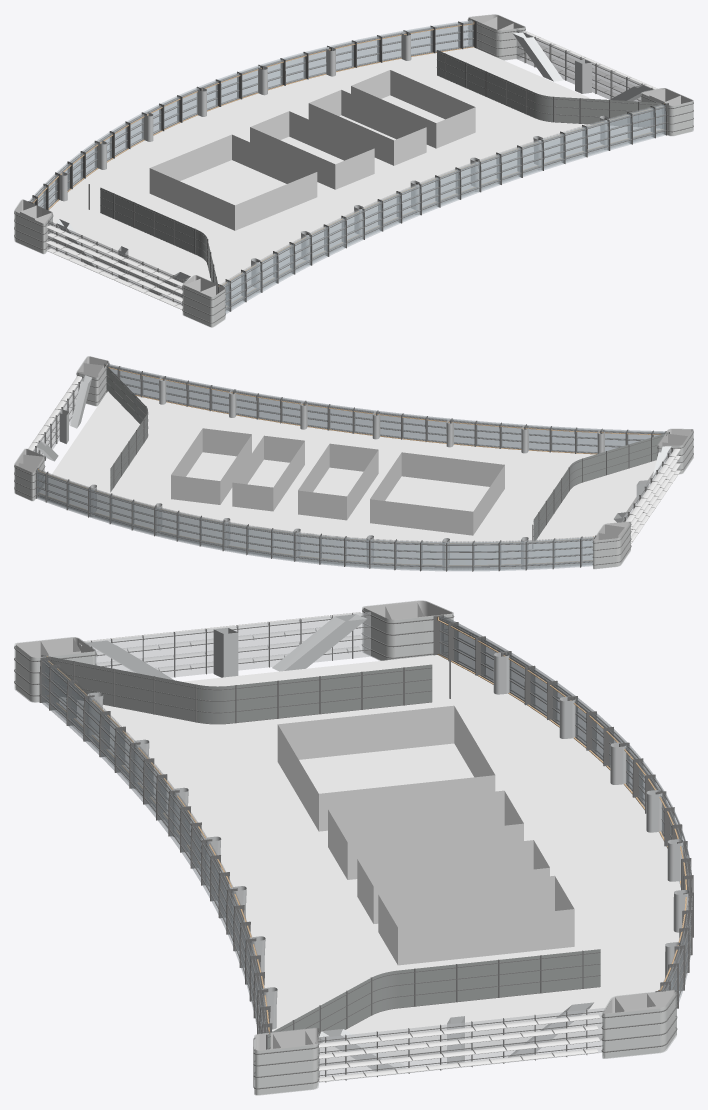
The picture shows the model from 3 angles, top to bottom: view 1: azimuth 30°, elevation 25°; view 2: azimuth 150°, elevation 25°; view 3: azimuth 270°, elevation 25°; orthographic projection. The views are drawn at different scales.
Parts seen in each view (by area): view 1: floor.038; view 2: floor.038; view 3: floor.038.
Part boxes in pixels (box(x1,y1,x2,y2)): floor.038: box(14, 14, 693, 327); floor.038: box(14, 356, 693, 571); floor.038: box(14, 600, 693, 1095).
Bounding box in the file's own units: 82.01 × 3.79 × 52.24.
Materials: 14 (1 with a texture image).
